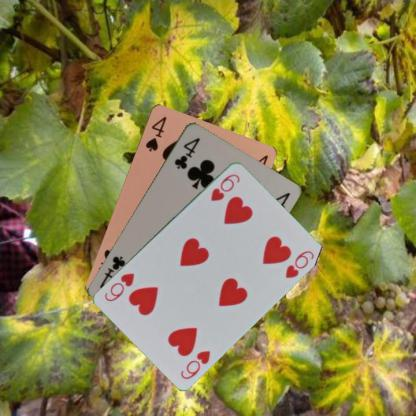4c: (172, 134, 202, 170)
4s: (143, 113, 168, 153)
6h: (178, 347, 211, 380), (208, 171, 242, 202)
